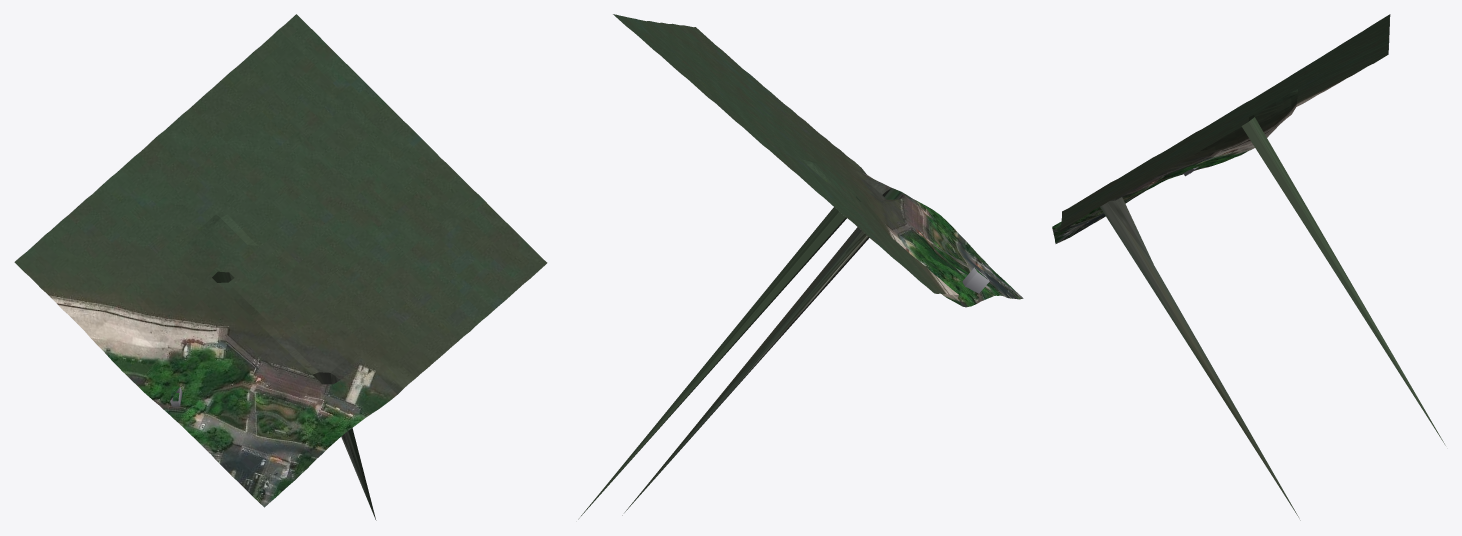
The picture shows the model from 3 angles, left to right: view 1: azimuth 30°, elevation 25°; view 2: azimuth 150°, elevation 25°; view 3: azimuth 270°, elevation 25°; orthographic projection. The views are drawn at different scales.
Size of the model in its own units: 295 by 367 by 268.
Materials: 1 (1 with a texture image).
